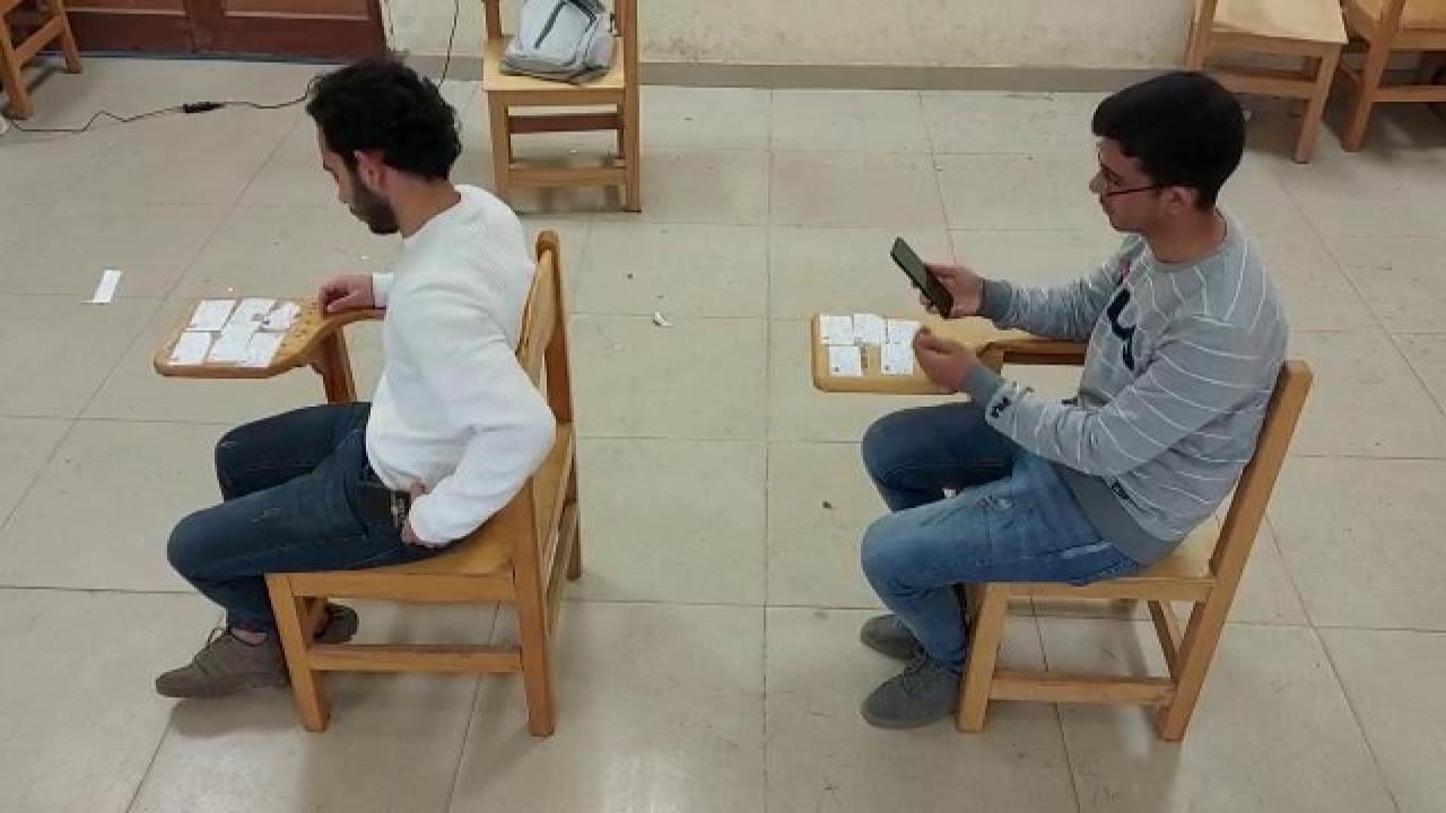phone: (890, 233, 962, 320), (341, 481, 432, 529)
